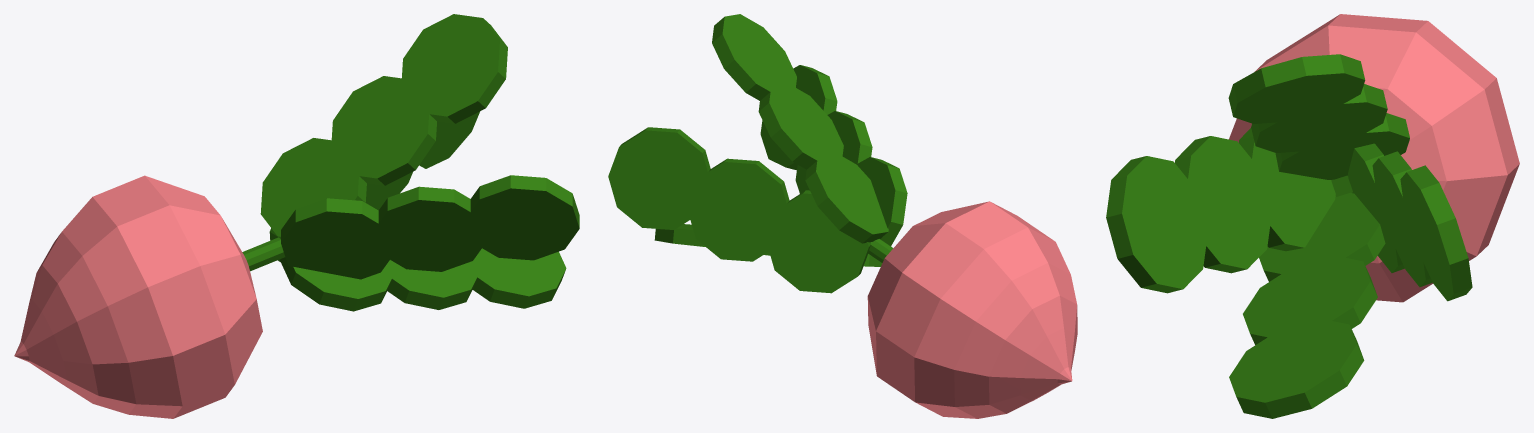
The model's file is findradish1.gltf.
3 views of the same model, side by side, from view 1: azimuth 30°, elevation 25°; view 2: azimuth 150°, elevation 25°; view 3: azimuth 270°, elevation 25° (orthographic). The views are drawn at different scales.
Parts seen in each view (by area): view 1: model1.363, model1.362; view 2: model1.363, model1.362; view 3: model1.363, model1.362.
Boxes of the visible parts, box(x1,y1,x2,y2) form: model1.363: box(242, 14, 579, 311); model1.362: box(14, 175, 262, 418); model1.363: box(608, 14, 907, 293); model1.362: box(867, 201, 1077, 418); model1.363: box(1106, 54, 1472, 418); model1.362: box(1229, 14, 1519, 302).
Size of the model in its own units: 5.77 by 3.71 by 3.46.
